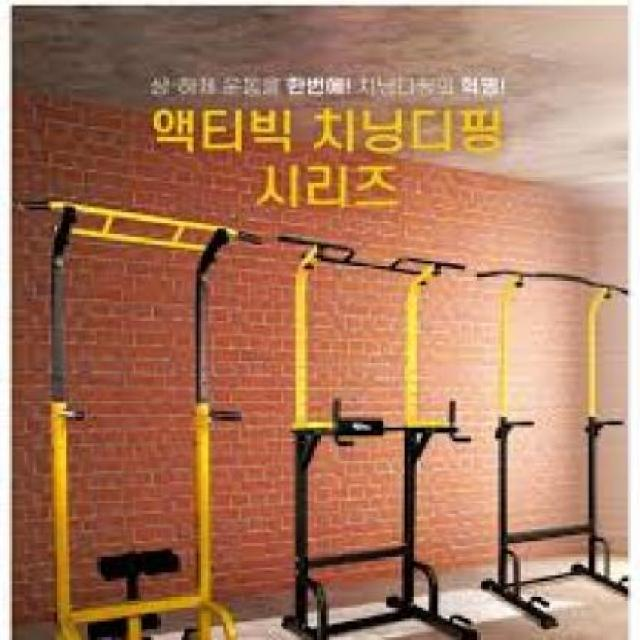chinning dipping: (13, 194, 264, 640), (271, 229, 478, 640), (477, 268, 628, 628)
